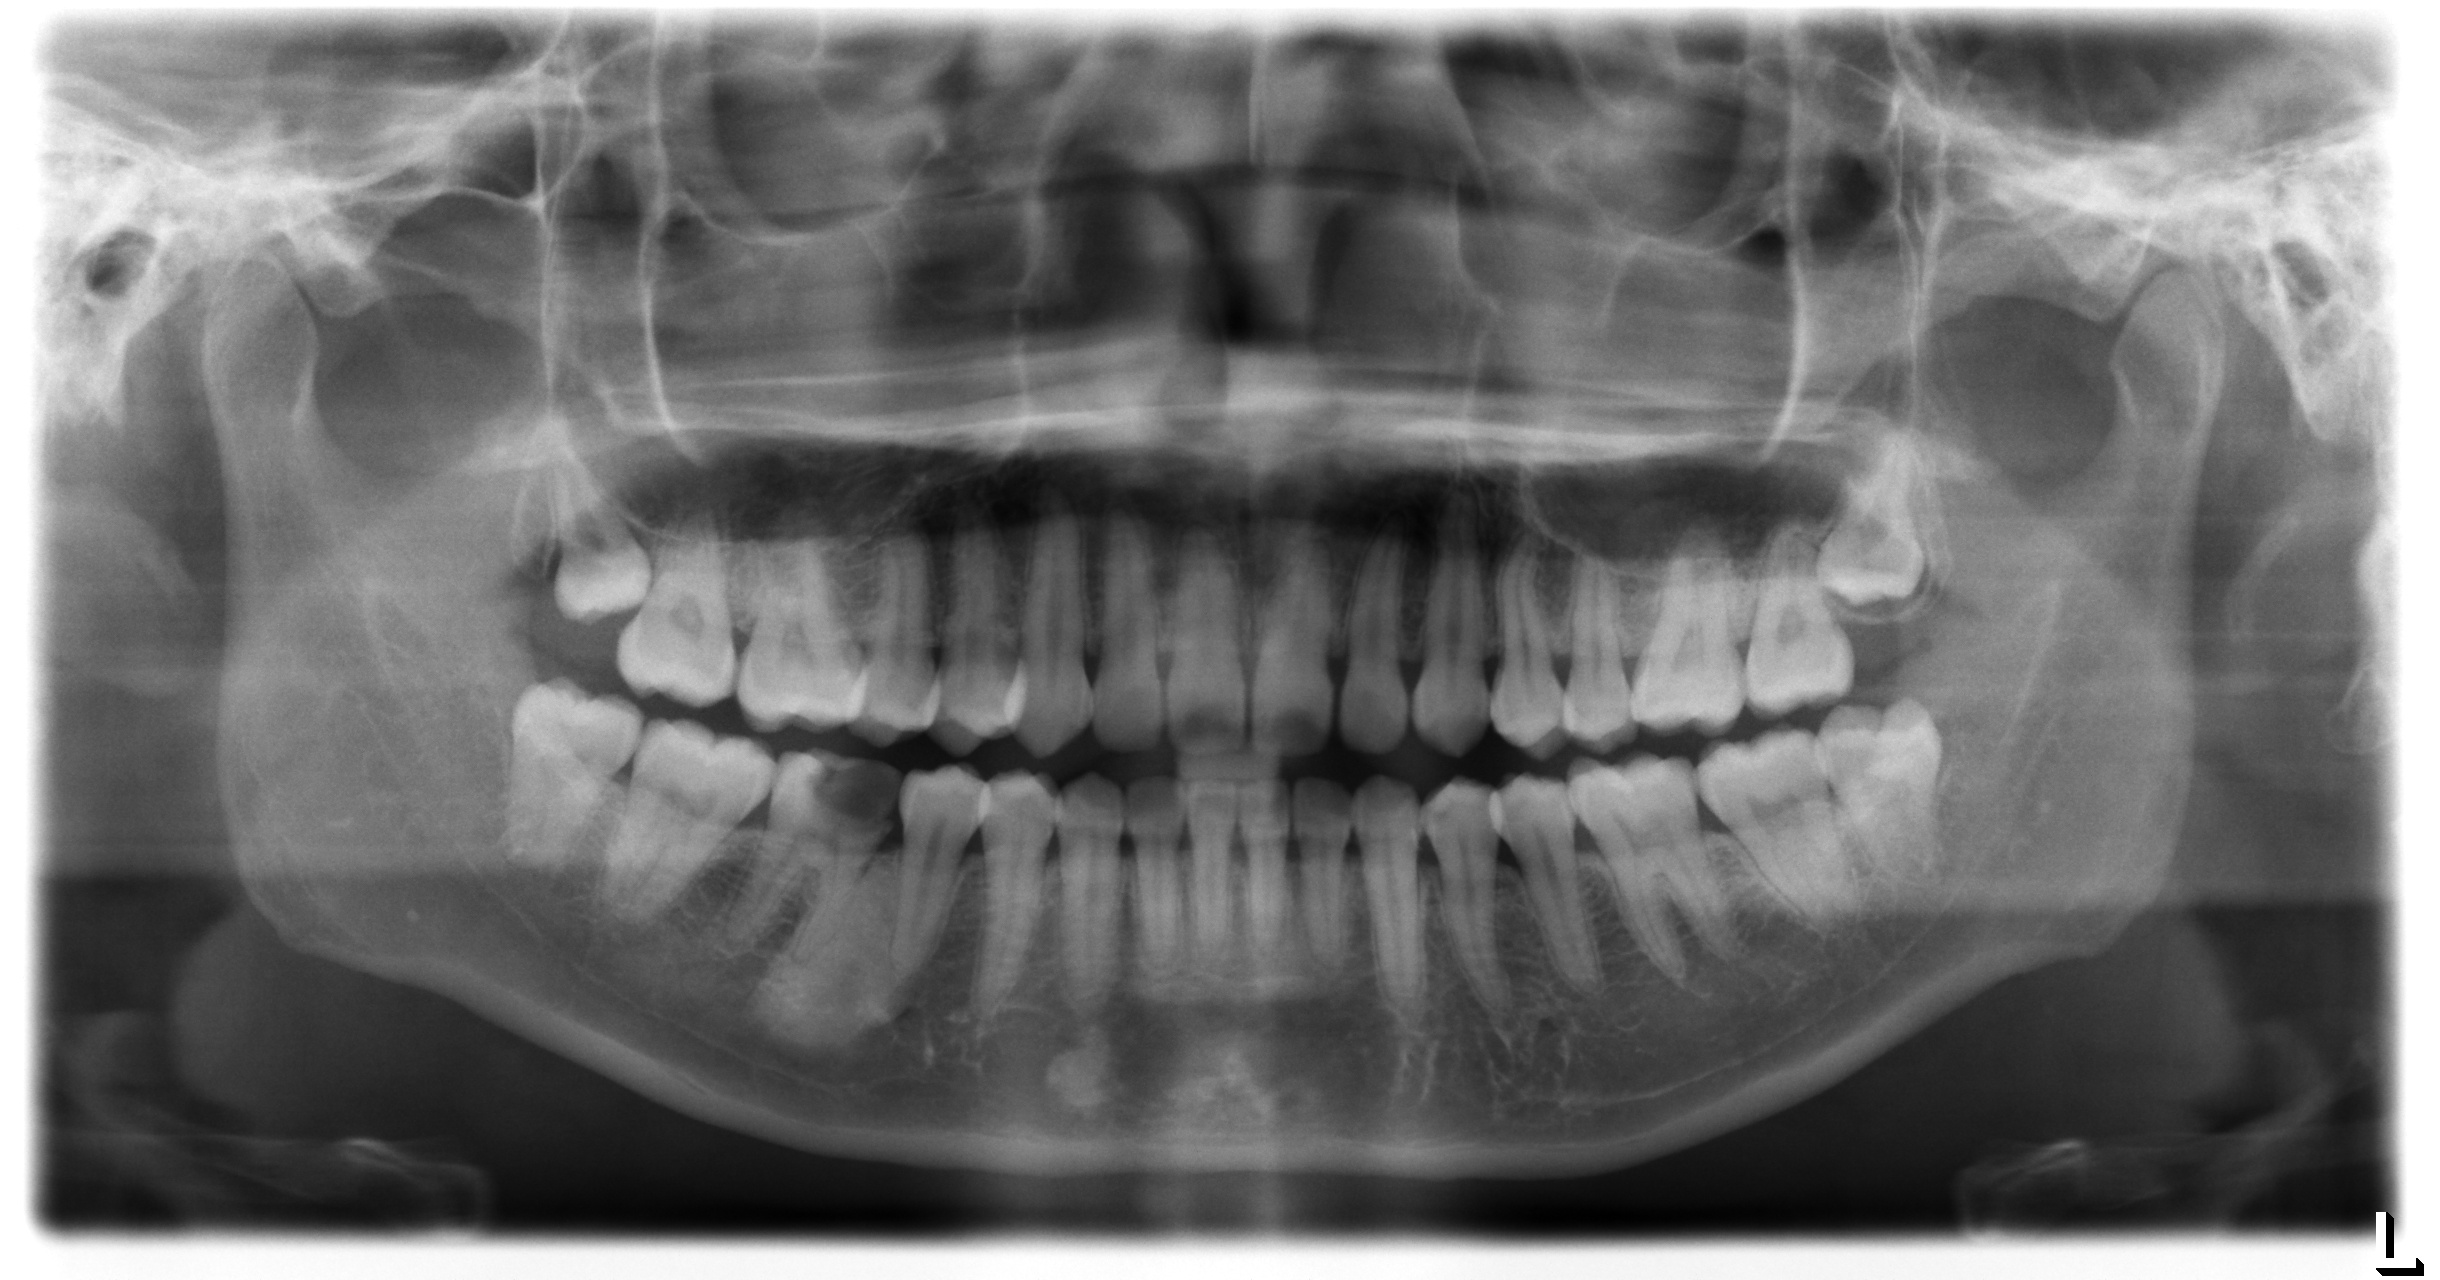Decay: (804, 746, 904, 838)
